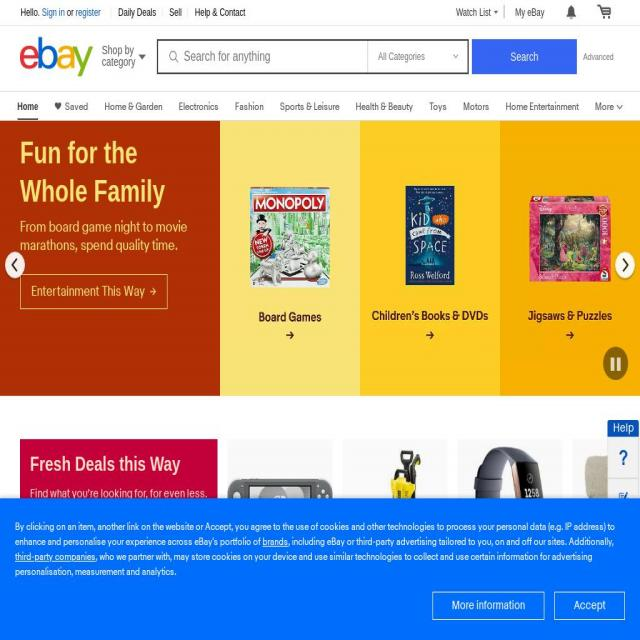login-option: (42, 5, 68, 23)
navigation-links: (11, 90, 622, 117), (118, 2, 250, 25)
options: (590, 95, 629, 120)
search: (152, 33, 624, 85)
sign-up-option: (73, 5, 105, 27)
